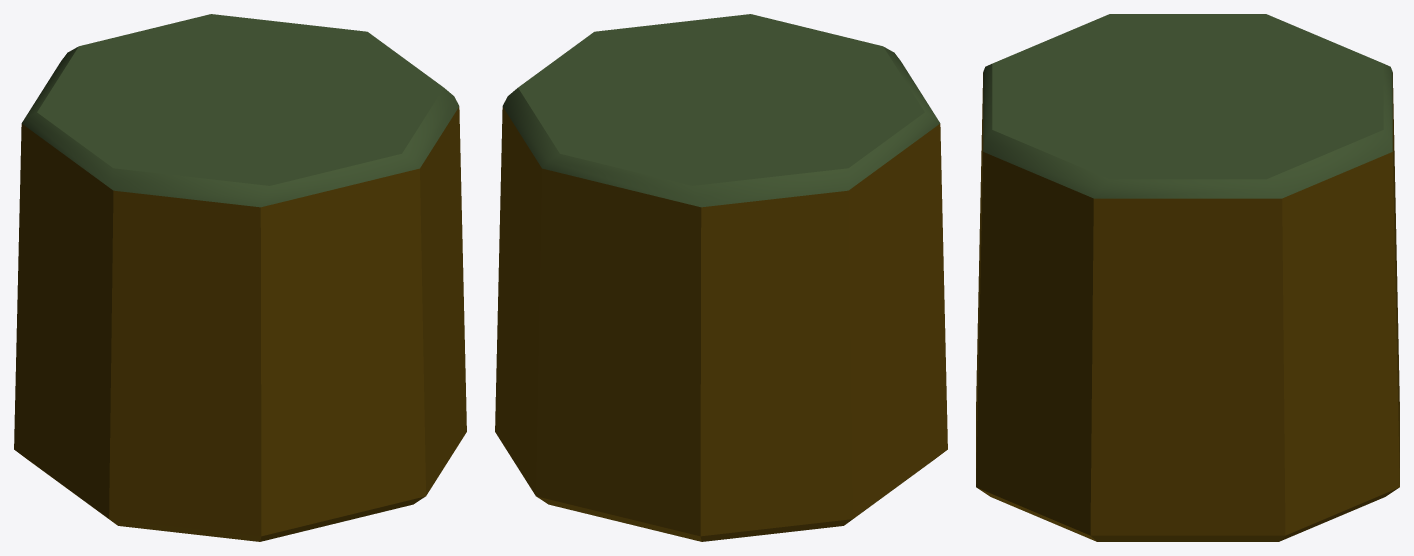
Rendered from envCliff_20x20a2.fbx.
3 views of the same model, side by side, from view 1: azimuth 30°, elevation 25°; view 2: azimuth 150°, elevation 25°; view 3: azimuth 270°, elevation 25° (orthographic). The views are drawn at different scales.
Parts seen in each view (by area): view 1: envCliff_20x20; view 2: envCliff_20x20; view 3: envCliff_20x20.
Boxes of the visible parts, <box> form: envCliff_20x20: <box>14,14,466,541</box>; envCliff_20x20: <box>495,14,947,541</box>; envCliff_20x20: <box>976,14,1399,541</box>.
Size of the model in its own units: 20.69 by 19.49 by 20.69.
